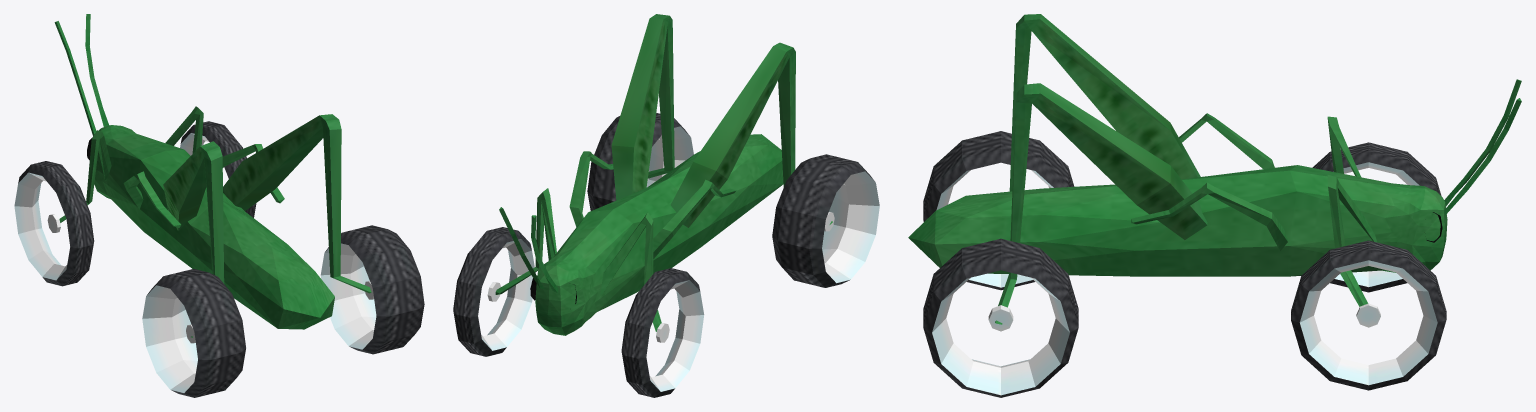
The model's file is grasshoppershow.glb.
3 renders of one model, left to right at view 1: azimuth 30°, elevation 25°; view 2: azimuth 150°, elevation 25°; view 3: azimuth 270°, elevation 25°, orthographic. The views are drawn at different scales.
Visible parts, largest first — view 1: ZtoY, legs128, wheellr128, wheelrr128, lfwheel128, rfwheel128, antenna128; view 2: legs128, ZtoY, wheellr128, lfwheel128, rfwheel128, wheelrr128, antenna128; view 3: ZtoY, legs128, wheelrr128, rfwheel128, wheellr128, lfwheel128, antenna128.
Part boxes in pixels (x1=…): ZtoY: x1=93, y1=125, x2=334, y2=329; legs128: x1=59, y1=106, x2=371, y2=337; wheellr128: x1=142, y1=269, x2=245, y2=397; wheelrr128: x1=320, y1=225, x2=424, y2=354; lfwheel128: x1=14, y1=161, x2=94, y2=286; rfwheel128: x1=180, y1=121, x2=256, y2=217; antenna128: x1=54, y1=14, x2=109, y2=135; legs128: x1=495, y1=14, x2=832, y2=331; ZtoY: x1=535, y1=134, x2=783, y2=335; wheellr128: x1=772, y1=154, x2=879, y2=287; lfwheel128: x1=621, y1=268, x2=704, y2=397; rfwheel128: x1=453, y1=227, x2=535, y2=356; wheelrr128: x1=587, y1=113, x2=693, y2=210; antenna128: x1=499, y1=207, x2=558, y2=292; ZtoY: x1=908, y1=165, x2=1447, y2=276; legs128: x1=995, y1=14, x2=1376, y2=324; wheelrr128: x1=923, y1=238, x2=1078, y2=397; rfwheel128: x1=1291, y1=240, x2=1446, y2=390; wheellr128: x1=923, y1=131, x2=1074, y2=290; lfwheel128: x1=1312, y1=142, x2=1441, y2=292; antenna128: x1=1444, y1=79, x2=1521, y2=215.
Size of the model in its own units: 4.1 by 3.98 by 7.78.
Materials: 2 (2 with a texture image).
